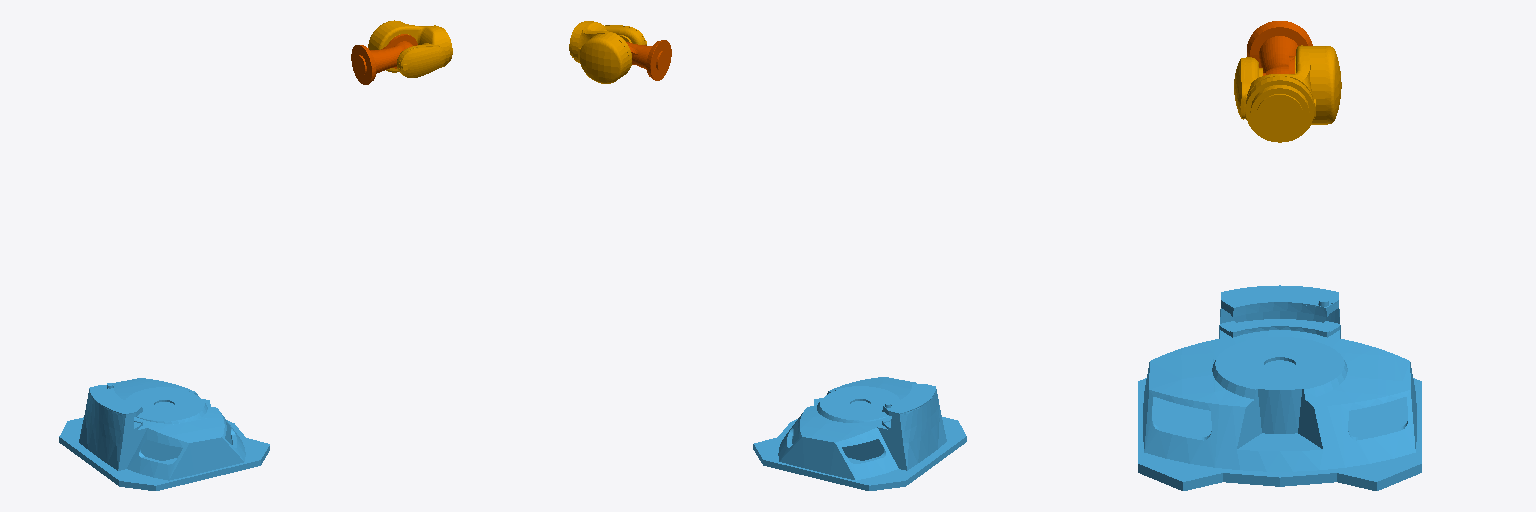
robot.urdf — robot_model:
<?xml version="1.0" ?>
<!--
	This is the description file of the milling robot. This is a test file
	 for gazebo.
-->
<robot name="robot_model">

	<link name = "base_link">
		<!-- <visual>
			<origin xyz = "0.000 0.000 0.000" rpy = " 0.0000 0.000 0.000"/>
			<geometry>
				<cylinder length="0.01" radius="0.2"/>
			</geometry>
		</visual>  -->
	</link>

	<joint name = "joint_0" type = "fixed">

		<parent link = "base_link"/>
		<child link = "link_0_x"/>
		<origin rpy="0 0 0" xyz="0 0 0"/>

	</joint>


	<!-- =================================================================================== -->
	<!-- | Link 0 and joint 1 | -->
	<!-- =================================================================================== -->
	<link name = "link_0_x">
		
		<visual name = "mesh_0_x">
			<origin xyz = "0.000 0.000 0.000" rpy = " 0.0000 0.000 0.000"/>
			<geometry>
				<mesh filename = "package://robot_model/mesh/L0.obj" scale = "1 1 1"/>
			</geometry>
			<material name = "l0_mtr">
				<texture filename = "package://robot_model/mesh/texture/L0.png"/>

			</material>
		</visual> 
	</link>

	<joint name = "joint_1_x" type = "continuous">
		<!-- <movement type = "rotational" rigidity = "flexible"/> -->
		<parent link="link_0_x"/>
		<child link="link_0_y"/>
		<origin xyz = "0.0000 0.0000 0.2500" rpy = "0.0000 0.0000 0.0000"/>
		<axis xyz="1 0 0" />
	</joint>

	<link name = "link_0_y">
	<!-- dummy link does not need any attr. -->
		<!-- <visual name = "mesh_0_y">
			<origin xyz = "0.000 0.000 0.000" rpy = " 0.0000 0.000 0.000"/>
		</visual>  -->
		<visual>
			<origin xyz = "0.000 0.000 0.000" rpy = " 0.0000 0.000 0.000"/>
			<geometry>
				<cylinder length="0" radius="0"/>
			</geometry>
		</visual> 
	</link>

	<joint name = "joint_1_y" type = "continuous">
		<!-- <movement type = "rotational" rigidity = "flexible"/> -->
		<parent link="link_0_y"/>
		<child link="link_0_z"/>
		<origin xyz = "0.0000 0.0000 0.0000" rpy = "0.0000 0.0000 0.0000"/>
		<axis xyz="0 1 0" />
	</joint>

	<link name = "link_0_z">
	<!-- dummy link does not need any attr. -->
		<!-- <visual name = "mesh_0_z">
			<origin xyz = "0.000 0.000 0.000" rpy = " 0.0000 0.000 0.000"/>
		</visual>  -->
	</link>

	<joint name = "joint_1_z" type = "continuous">
		<!-- <movement type = "rotational" rigidity = "flexible"/> -->
		<parent link="link_0_z"/>
		<child link="link_1_x"/>
		<origin xyz = "0.0000 0.0000 0.0000" rpy = "0.0000 0.0000 0.0000"/>
		<axis xyz="0 0 1" />
	</joint>

	<!-- =================================================================================== -->
	<!-- | Link 1 and joint 2 | -->
	<!-- =================================================================================== -->
	<link name = "link_1_x">
		<inertial>
			<origin xyz = "0.000 0.000 0.000" rpy = " 0.0000 0.000 0.000"/>
			<mass value = "110.000"/>
			<inertia ixx = "3.236370867" ixy = "0.644464939" ixz = "0.468238095" iyy = "6.714710678" iyz = "0.257842574" izz = "5.649849463"/>
		</inertial>		
		<visual name = "mesh_1_x">
			<origin xyz = "0.000 0.000 0.000" rpy = " 0.0000 0.000 0.000"/>
			<geometry>
				<mesh filename = "package://robot_model/mesh/L1.obj" scale = "1 1 1"/>
				
			</geometry>
			<material name = "l1_mtr">
				<texture filename = "package://robot_model/mesh/texture/L1.png"/>
				
			</material>
		</visual> 
	</link>

	<joint name = "joint_2_x" type = "continuous">
		<!-- <movement type = "rotational" rigidity = "flexible"/> -->
		<parent link="link_1_x"/>
		<child link="link_1_y"/>
		<origin xyz = "0.3500 0.0000 0.4250" rpy = "0.0000 -1.5708 1.5708"/>
		<axis xyz="1 0 0" />
	</joint>

	<link name = "link_1_y">
	<!-- dummy link does not need any attr. -->
		<!-- <visual name = "mesh_1_y">
			<origin xyz = "0.000 0.000 0.000" rpy = " 0.0000 0.000 0.000"/>
		</visual>  -->
	</link>

	<joint name = "joint_2_y" type = "continuous">
		<!-- <movement type = "rotational" rigidity = "flexible"/> -->
		<parent link="link_1_y"/>
		<child link="link_1_z"/>
		<origin xyz = "0.0000 0.0000 0.0000" rpy = "0.0000 0.0000 0.0000"/>
		<axis xyz="0 1 0" />
	</joint>

	<link name = "link_1_z">
	<!-- dummy link does not need any attr. -->
		<!-- <visual name = "mesh_1_z">
			<origin xyz = "0.000 0.000 0.000" rpy = " 0.0000 0.000 0.000"/>
		</visual>  -->
	</link>

	<joint name = "joint_2_z" type = "continuous">
		<!-- <movement type = "rotational" rigidity = "flexible"/> -->
		<parent link="link_1_z"/>
		<child link="link_2_x"/>
		<origin xyz = "0.0000 0.0000 0.0000" rpy = "0.0000 0.0000 0.0000"/>
		<axis xyz="0 0 1" />
	</joint>

	<!-- =================================================================================== -->
	<!-- | Link 2 and joint 3 | -->
	<!-- =================================================================================== -->

	
	<link name = "link_2_x">
		<inertial>
			<mass value = "239.748" xyz = " 0.427436 0.002950  0.236273"/>
			<inertia ixx = "4.30639745" ixy = "0.165463221" ixz = "4.341148242" iyy = "40.01608253" iyz = "0.022575289" izz = "39.50583604"/>
		</inertial>
		
		<visual name = "mesh_2_x">
			<origin xyz = "0.000 0.000 0.000" rpy = " 0.0000 0.000 0.000"/>
			<geometry>
				<!-- <mesh filename = "L2.obj" scale = "1.0"/> -->
				<mesh filename = "package://robot_model/mesh/L2.dae"/>
			</geometry>
			<material name = "l2_mtr">
				<texture filename = "package://robot_model/mesh/texture/L2.png"/>
				
			</material>
		</visual> 
	</link>

	<joint name = "joint_3_x" type = "continuous">
		<!-- <movement type = "rotational" rigidity = "flexible"/> -->
		<parent link="link_2_x"/>
		<child link="link_2_y"/>
		<origin xyz = "1.1500 0.0000 0.0000" rpy = "0.0000 0.0000 -3.14159"/>
		<axis xyz="1 0 0" />
	</joint>

	<link name = "link_2_y">
	<!-- dummy link does not need any attr. -->
		<!-- <visual name = "mesh_2_y">
			<origin xyz = "0.000 0.000 0.000" rpy = " 0.0000 0.000 0.000"/>
		</visual>  -->
	</link>

	<joint name = "joint_3_y" type = "continuous">
		<!-- <movement type = "rotational" rigidity = "flexible"/> -->
		<parent link="link_2_y"/>
		<child link="link_2_z"/>
		<origin xyz = "0.0000 0.0000 0.0000" rpy = "0.0000 0.0000 0.0000"/>
		<axis xyz="0 1 0" />
	</joint>

	<link name = "link_2_z">
	<!-- dummy link does not need any attr. -->
		<!-- <visual name = "mesh_2_z">
			<origin xyz = "0.000 0.000 0.000" rpy = " 0.0000 0.000 0.000"/>
		</visual>  -->
	</link>

	<joint name = "joint_3_z" type = "continuous">
		<!-- <movement type = "rotational" rigidity = "flexible"/> -->
		<parent link="link_2_z"/>
		<child link="link_3_x"/>
		<origin xyz = "0.0000 0.0000 0.0000" rpy = "0.0000 0.0000 0.0000"/>
		<axis xyz="0 0 1" />
	</joint>

	<!-- =================================================================================== -->
	<!-- | Link 3 and joint 4 | -->
	<!-- =================================================================================== -->

	<link name = "link_3_x">
		<inertial>
			<mass value = "164.006" xyz = " 0.023521 0.157165  0.000000"/>
			<inertia ixx = "16.43037097" ixy = "0.336896677" ixz = "0.018073572" iyy = "2.381578838" iyz = "0.191901642" izz = "16.17115993"/>
		</inertial>
		
		<visual name = "mesh_3_z">
			<origin xyz = "0.000 0.000 0.000" rpy = " 0.0000 0.000 0.000"/>
			<geometry>
				<!-- <mesh filename = "L3.obj" scale = "1.0"/> -->
				<mesh filename = "package://robot_model/mesh/L3.obj"/>
			</geometry>
			<material name = "l3_mtr">
				<texture filename = "package://robot_model/mesh/texture/L3.png"/>
				
			</material>
		</visual> 
	</link>

	<joint name = "joint_4_x" type = "continuous">
		<!-- <movement type = "rotational" rigidity = "flexible"/> -->
		<parent link="link_3_x"/>
		<child link="link_3_y"/>
		<origin xyz = "0.0410 0.7545 0.0000" rpy = "-1.5708 0.0000 0.0000"/>
		<axis xyz="1 0 0" />
	</joint>

	<link name = "link_3_y">
	<!-- dummy link does not need any attr. -->
		<!-- <visual name = "mesh_3_y">
			<origin xyz = "0.000 0.000 0.000" rpy = " 0.0000 0.000 0.000"/>
		</visual>  -->
	</link>

	<joint name = "joint_4_y" type = "continuous">
		<!-- <movement type = "rotational" rigidity = "flexible"/> -->
		<parent link="link_3_y"/>
		<child link="link_3_z"/>
		<origin xyz = "0.0000 0.0000 0.0000" rpy = "0.0000 0.0000 0.0000"/>
		<axis xyz="0 1 0" />
	</joint>

	<link name = "link_3_z">
	<!-- dummy link does not need any attr. -->
		<!-- <visual name = "mesh_3_z">
			<origin xyz = "0.000 0.000 0.000" rpy = " 0.0000 0.000 0.000"/>
		</visual>  -->
	</link>

	<joint name = "joint_4_z" type = "continuous">
		<!-- <movement type = "rotational" rigidity = "flexible"/> -->
		<parent link="link_3_z"/>
		<child link="link_4_x"/>
		<origin xyz = "0.0000 0.0000 0.0000" rpy = "0.0000 0.0000 0.0000"/>
		<axis xyz="0 0 1" />
	</joint>

	<!-- =================================================================================== -->
	<!-- | Link 4 and joint 5 | -->
	<!-- =================================================================================== -->
	<link name = "link_4_x">
		<inertial>
			<mass value = " 39.746" xyz = " 0.000000 0.001354 0.223432"/>
			<inertia ixx = "0.419700279" ixy = "0" ixz = "0" iyy = "0.425200882" iyz = "0.009137089" izz = "0.097243405"/>
		</inertial>	
		<visual name = "mesh_4_x">
			<origin xyz = "0.000 0.000 0.000" rpy = " 0.0000 0.000 0.000"/>
			<geometry>
				<!-- <mesh filename = "L4.obj" scale = "1.0"/> -->
				<mesh filename = "package://robot_model/mesh/L4.obj"/>
			</geometry>
			<material name = "l4_mtr">
				<texture filename = "package://robot_model/mesh/texture/L4.png"/>
		
			</material>
		</visual> 
	</link>

	<joint name = "joint_5_x" type = "continuous">
		<!-- <movement type = "rotational" rigidity = "flexible"/> -->
		<parent link="link_4_x"/>
		<child link="link_4_y"/>
		<origin xyz = "0.0000 0.0000 0.245500" rpy = "1.5708 0.0000 0.0000"/>
		<axis xyz="1 0 0" />
	</joint>

	<link name = "link_4_y">
	<!-- dummy link does not need any attr. -->
		<!-- <visual name = "mesh_4_y">
			<origin xyz = "0.000 0.000 0.000" rpy = " 0.0000 0.000 0.000"/>
		</visual>  -->
	</link>

	<joint name = "joint_5_y" type = "continuous">
		<!-- <movement type = "rotational" rigidity = "flexible"/> -->
		<parent link="link_4_y"/>
		<child link="link_4_z"/>
		<origin xyz = "0.0000 0.0000 0.0000" rpy = "0.0000 0.0000 0.0000"/>
		<axis xyz="0 1 0" />
	</joint>

	<link name = "link_4_z">
	<!-- dummy link does not need any attr. -->
		<!-- <visual name = "mesh_4_z">
			<origin xyz = "0.000 0.000 0.000" rpy = " 0.0000 0.000 0.000"/>
		</visual>  -->
	</link>

	<joint name = "joint_5_z" type = "continuous">
		<!-- <movement type = "rotational" rigidity = "flexible"/> -->
		<parent link="link_4_z"/>
		<child link="link_5_x"/>
		<origin xyz = "0.0000 0.0000 0.0000" rpy = "0.0000 0.0000 0.0000"/>
		<axis xyz="0 0 1" />
	</joint>

	<!-- =================================================================================== -->
	<!-- | Link 5 and joint 6 | -->
	<!-- =================================================================================== -->

	<link name = "link_5_x">
		<inertial>
			<mass value = " 28.510" xyz = " 0.000000 0.054123 -0.037621"/>
			<inertia ixx = "0.436341228" ixy = "0.000008171" ixz = "0.000000068" iyy = "0.296286531" iyz = "0.06785905" izz = "0.294686677"/>
		</inertial>
		<visual name = "mesh_5_x">
			<origin xyz = "0.000 0.000 0.000" rpy = " 0.0000 0.000 0.000"/>
			<geometry>
				<!-- <mesh filename = "L5.obj" scale = "1.0"/> -->
				<mesh filename = "package://robot_model/mesh/L5.obj"/>
			</geometry>
			<material name = "l5_mtr">
				<texture filename = "package://robot_model/mesh/texture/L5.png"/>
				
			</material>
		</visual> 
	</link>

	<joint name = "joint_6_x" type = "continuous">
		<!-- <movement type = "rotational" rigidity = "flexible"/> -->
		<parent link="link_5_x"/>
		<child link="link_5_y"/>
		<origin xyz = "0.0000 0.2400 0.0000" rpy = "-1.5708 0.0000 0.0000"/>
		<axis xyz="1 0 0" />
	</joint>

	<link name = "link_5_y">
	<!-- dummy link does not need any attr. -->
		<!-- <visual name = "mesh_5_y">
			<origin xyz = "0.000 0.000 0.000" rpy = " 0.0000 0.000 0.000"/>
		</visual>  -->
	</link>

	<joint name = "joint_6_y" type = "continuous">
		<!-- <movement type = "rotational" rigidity = "flexible"/> -->
		<parent link="link_5_y"/>
		<child link="link_5_z"/>
		<origin xyz = "0.0000 0.0000 0.0000" rpy = "0.0000 0.0000 0.0000"/>
		<axis xyz="0 1 0" />
	</joint>

	<link name = "link_5_z">
	<!-- dummy link does not need any attr. -->
		<!-- <visual name = "mesh_5_z">
			<origin xyz = "0.000 0.000 0.000" rpy = " 0.0000 0.000 0.000"/>
		</visual>  -->
	</link>

	<joint name = "joint_6_z" type = "continuous">
		<!-- <movement type = "rotational" rigidity = "flexible"/> -->
		<parent link="link_5_z"/>
		<child link="link_6_x"/>
		<origin xyz = "0.0000 0.0000 0.0000" rpy = "0.0000 0.0000 0.0000"/>
		<axis xyz="0 0 1" />
	</joint>

	<!-- =================================================================================== -->
	<!-- | Link 6 | -->
	<!-- =================================================================================== -->
	
	<link name = "link_6_x">
		<inertial>
			<mass value = " 78.622" xyz = "-0.065895 0.000000  0.122766"/>
			<inertia ixx = "0.766497" ixy = "0" ixz = "0.01855" iyy = "1.401573" iyz = "0" izz = "1.295152"/>
		</inertial>
		
		<visual name = "mesh_6">
			<origin xyz = "0.000 0.000 0.000" rpy = " 0.0000 0.000 0.000"/>
			<geometry>
				<!-- <mesh filename = "L6Spindle.obj" scale = "1.0"/> -->
				<mesh filename = "package://robot_model/mesh/L6Spindle.obj"/>
			</geometry>
			<material name = "l6_mtr">
				<texture filename = "package://robot_model/mesh/texture/L6Spindle.png"/>
			</material>
		</visual> 
	</link>
		
	
	
	<!-- <cosy name = "TCP">
		<parent link="link_6"/>
		<T_parent_cosy xyz = "0.1705 0.0000 0.1165" rpy = "0.0000 -1.5708 0.0000"/>
	</cosy> -->
	
</robot>

	<!-- =================================================================================== -->
	<!-- | original file backup | -->
	<!-- =================================================================================== -->
	<!-- | "joint1" backup, now it is joint 0 | -->
	<!-- <joint name = "joint_1" type = "continuous">
		<movement type = "rotational" rigidity = "flexible"/>
		<parent link="link_0"/>
		<child link="link_1"/>
		<origin xyz = "0.0000 0.0000 0.2500" rpy = "0.0000 0.0000 0.0000"/>
		
		<T_parent_joint xyz = "0.0000 0.0000 0.2500" rpy = "0.0000 0.0000 0.0000"/>
		<T_child_joint xyz = "0.0000 0.0000 0.0000" rpy = "0.0000 0.0000 0.0000"/>
		<position min = "-3.2289" max = "3.2289" offset = "0.0" home = "0.0"/>
		<veclocity min = "-1.8326" max = "1.8326"/>
		<acceleration min = "-4.3633" max = "4.3633"/>
		<jerk max = "189.338"/>
		<gear numerator = "-1798" denominator = "7" backlash = "0.0017"/>
		<motor max = "55.0" inertia = "874.1766" nu = "0.89"/>
		<torque max = "[phone redacted]"/>
		<stiffness xyz = "inf inf inf" rpy = "12395720.9971118 13033731.2965956 7446570.85412168 "/> 
		<dampingOld xyz = "15020 15020 15020" rpy = "15020 15020 15020"/>
		
		
		<backlashOld value = "0.0017"/>
		<backlash value = "0.00003"/>
		
		<dynamics>
			<friction value = "1.2"/>
			<damping xyz = "[phone redacted]" rpy = "[phone redacted]"/>
		</dynamics>
	</joint> -->

	<!-- <joint name = "joint_2" type = "continuous">
		<movement type = "rotational" rigidity = "flexible"/>
		<parent link="link_1"/>
		<child link="link_2"/>
		<origin xyz = "0.3500 0.0000 0.4250" rpy = "0.0000 -1.5708 1.5708"/>
		<T_parent_joint xyz = "0.3500 0.0000 0.4250" rpy = "0.0000 -1.5708 1.5708"/>
		<T_child_joint xyz = "0.0000 0.0000 0.0000" rpy = "0.0000 0.0000 0.0000"/>
		<position min =  "0.0873" max = "2.4435" offset = "1.5708" home = "-1.5708"/>
		<veclocity min = "-1.8675" max = "1.8675"/>
		<acceleration min = "-4.3633" max = "4.3633"/>
		<jerk max = "155.671"/>
		<gear numerator = "-2782" denominator = "11" backlash = "0.0026"/>
		<motor max = "55.0" inertia = "658.1154" nu = "0.89"/>
		<torque max = "[phone redacted]"/>
		<stiffness xyz = "inf inf inf" rpy = "38157744.1141680 6593696.42621654 5062265.87020350"/> 
		<dampingOld xyz = "15020 15020 15020" rpy = "15020 15020 15020"/>
		
		
		<backlashOld value = "0.0016"/>
		<backlash value = "0.00003"/>

		<dynamics>
			<friction value= "1.2"/>
			<damping xyz = "[phone redacted]" rpy = "[phone redacted]"/>
		</dynamics>
	</joint> -->

	<!-- <joint name = "joint_3" type = "continuous">
		<movement type = "rotational" rigidity = "flexible"/>
		<parent link="link_2"/>
		<child link="link_3"/>
		<origin xyz = "1.1500 0.0000 0.0000" rpy = "0.0000 0.0000 -3.14159"/>
		<T_parent_joint xyz = "1.1500 0.0000 0.0000" rpy = "0.0000 0.0000 -3.14159"/>
		<T_child_joint xyz = "0.0000 0.0000 0.0000" rpy = "0.0000 0.0000 0.0000"/>
		<position min = "-2.7052" max = "2.0944" offset = "-1.5708" home = "1.5708"/>
		<veclocity min = "-1.9897" max = "1.9897"/>
		<acceleration min = "-4.3633" max = "4.3633"/>
		<jerk max = "194.329"/>
		<gear numerator = "-4491" denominator = "19" backlash = "0.0017"/>
		<motor max = "55.0" inertia = "559.9853" nu = "0.89"/>
		<torque max = "[phone redacted]"/>
		<stiffness xyz = "inf inf inf" rpy = "2552843.86806903 2256419.51351595 3807203.22850834"/> 
		<dampingOld xyz = "15020 15020 15020" rpy = "15020 15020 15020"/>
		
		
		<backlashOld value = "0.0017"/>
		<backlash value = "0.00003"/>

		<dynamics>
			<friction value= "1.2"/>
			<damping xyz = "[phone redacted]" rpy = "[phone redacted]"/>
		</dynamics>
	</joint> -->

	<!-- <joint name = "joint_4" type = "continuous">
		<movement type = "rotational" rigidity = "flexible"/>
		<parent link="link_3"/>
		<child link="link_4"/>
		<origin xyz = "0.0410 0.7545 0.0000" rpy = "-1.5708 0.0000 0.0000"/>
		
		<T_parent_joint xyz = "0.0410 0.7545 0.0000" rpy = "-1.5708 0.0000 0.0000"/>
		<T_child_joint xyz = "0.0000 0.0000 0.0000" rpy = "0.0000 0.0000 0.0000"/>
		<position min = "-6.1086" max = "6.1086" offset = "0.0" home = "0.0"/>
		<veclocity min = "-2.3736" max = "2.3736"/>
		<acceleration min = "-4.3633" max = "4.3633"/>
		<jerk max = "319.747"/>
		<gear numerator = "-1989" denominator = "10" backlash = "0.0028"/>
		<motor max = "18.0" inertia = "93.73926" nu = "0.89"/>
		<torque max =  "4923.5498"/>
		<stiffness xyz = "inf inf inf" rpy = "3390060.34307411 2584112.87405034 3966207.90861857"/> 
		<dampingOld xyz = "[phone redacted]" rpy = "[phone redacted]"/>
		
		
		<backlashOld value = "0.001"/>
		<backlash value = "0.0000175"/>

		<dynamics>
			<friction value= "1.2"/>
			<damping xyz = "[phone redacted]" rpy = "[phone redacted]"/>
		</dynamics>
	</joint> -->

	<!-- <joint name = "joint_5" type = "continuous">
		<movement type = "rotational" rigidity = "flexible"/>
		<parent link="link_4"/>
		<child link="link_5"/>
		<origin xyz = "0.0000 0.0000 0.245500" rpy = "1.5708 0.0000 0.0000"/>
		<T_parent_joint xyz = "0.0000 0.0000 0.245500" rpy = "1.5708 0.0000 0.0000"/>
		<T_child_joint xyz = "0.0000 0.0000 0.0000" rpy = "0.0000 0.0000 0.0000"/>
		<position min = "-2.1380" max = "2.1380" offset = "0.0" home = "0.0"/>
		<veclocity min = "-2.2515" max = "2.2515"/>
		<acceleration min = "-4.3633" max = "4.3633"/>
		<jerk max = "303.320"/>
		<gear numerator = "-629" denominator = "3" backlash = "0.0024"/>
		<motor max = "18.0" inertia = "113.7964" nu = "0.89"/>
		<torque max =  "4923.5498"/>
		<stiffness xyz = "inf inf inf" rpy = "1732952.08387488 1733613.02290103 1316291.74290190"/> 
		<dampingOld xyz = "[phone redacted]" rpy = "[phone redacted]"/>
		
		
		<backlashOld value = "0.001"/>
		<backlash value = "0.0000175"/>

		<dynamics>
			<friction value= "1.2"/>
			<damping xyz = "[phone redacted]" rpy = "[phone redacted]"/>
		</dynamics>
	</joint> -->

	<!-- <joint name = "joint_6" type = "continuous">
		<movement type = "rotational" rigidity = "flexible"/>
		<parent link="link_5"/>
		<child link="link_6"/>
		<origin xyz = "0.0000 0.2400 0.0000" rpy = "-1.5708 0.0000 0.0000"/>
		<T_parent_joint xyz = "0.0000 0.2400 0.0000" rpy = "-1.5708 0.0000 0.0000"/>
		<T_child_joint xyz = "0.0000 0.0000 0.0000" rpy = "0.0000 0.0000 0.0000"/>
		<position min = "-6.1086" max = "6.1086" offset = "0.0" home = "0.0"/>
		<veclocity min = "-3.5954" max = "3.5954"/>
		<acceleration min = "-4.3633" max = "4.3633"/>
		<jerk max = "315.185"/>
		<gear numerator = "-175743" denominator = "1340" backlash = "0.0017"/>
		<motor max = "18.0" inertia = "45.11652" nu = "0.89"/>
		<torque max =  "2881.5835"/>
		<stiffness xyz = "inf inf inf" rpy = "568504.832291074 1588537.11616972 636861.546299834"/> 
		<dampingOld xyz = "[phone redacted]" rpy = "[phone redacted]"/>
		
		<backlashOld value = "0.0005"/>
		<backlash value = "0.00000873"/>

		<dynamics>
			<friction value= "1.2"/>
			<damping xyz = "[phone redacted]" rpy = "[phone redacted]"/>
		</dynamics>
	</joint> -->

--- What the picture shows (computed from the rendered views, not written in the file) ---
3 views of the same robot in one strip: view 1: azimuth 30°, elevation 25°; view 2: azimuth 150°, elevation 25°; view 3: azimuth 270°, elevation 25° (orthographic).
Robot: robot_model — 20 links, 19 joints (18 continuous, 1 fixed); root link base_link; default pose: all joints at 0.
Visible links, largest first — view 1: link_0_x, link_5_x, link_4_x; view 2: link_0_x, link_5_x, link_4_x; view 3: link_0_x, link_5_x, link_4_x.
Boxes of the visible links, x1,y1,x2,y2 form: link_0_x: (59, 378, 269, 490); link_5_x: (368, 20, 452, 77); link_4_x: (351, 34, 417, 84); link_0_x: (753, 377, 966, 490); link_5_x: (569, 21, 646, 83); link_4_x: (626, 40, 671, 80); link_0_x: (1138, 285, 1421, 490); link_5_x: (1234, 45, 1341, 142); link_4_x: (1247, 21, 1312, 75).
Size in the robot's own frame: 1.99 by 0.856 by 1.9 metres.
3 mesh visuals loaded from 7 distinct referenced files (3 OBJ); not drawn: 4 (reference not matched to a file when rendering).